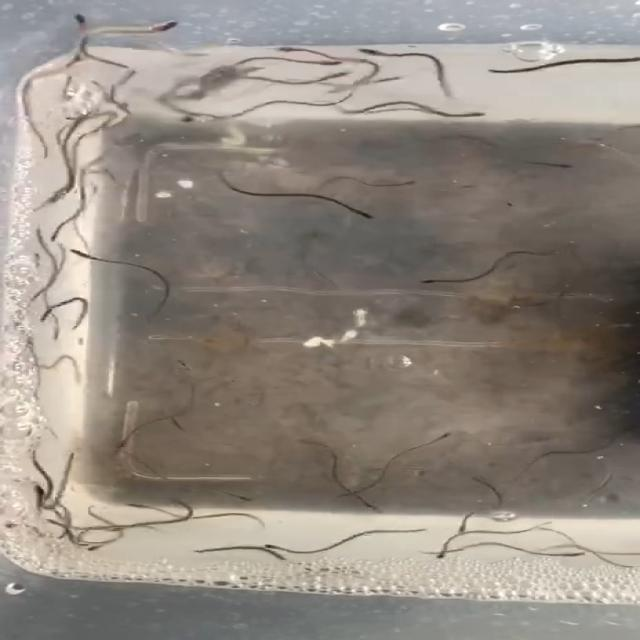inactive_glass_eel: (308, 64, 364, 90), (35, 178, 76, 207), (48, 52, 92, 77), (177, 107, 231, 125), (137, 17, 184, 36), (263, 39, 322, 54), (66, 248, 113, 266), (420, 270, 468, 287), (340, 199, 379, 219), (366, 70, 413, 86), (24, 225, 52, 251), (448, 105, 501, 118), (248, 538, 292, 553), (220, 484, 256, 502), (312, 56, 352, 71), (23, 484, 50, 506), (426, 427, 465, 442), (431, 540, 458, 561), (549, 545, 592, 558), (359, 496, 390, 514), (176, 359, 202, 379), (37, 303, 61, 324), (353, 44, 390, 57), (67, 12, 91, 32), (23, 253, 47, 273), (448, 514, 474, 532), (16, 330, 38, 351), (44, 228, 70, 244), (0, 520, 32, 533), (129, 499, 157, 512), (81, 540, 106, 554), (46, 323, 63, 340)
